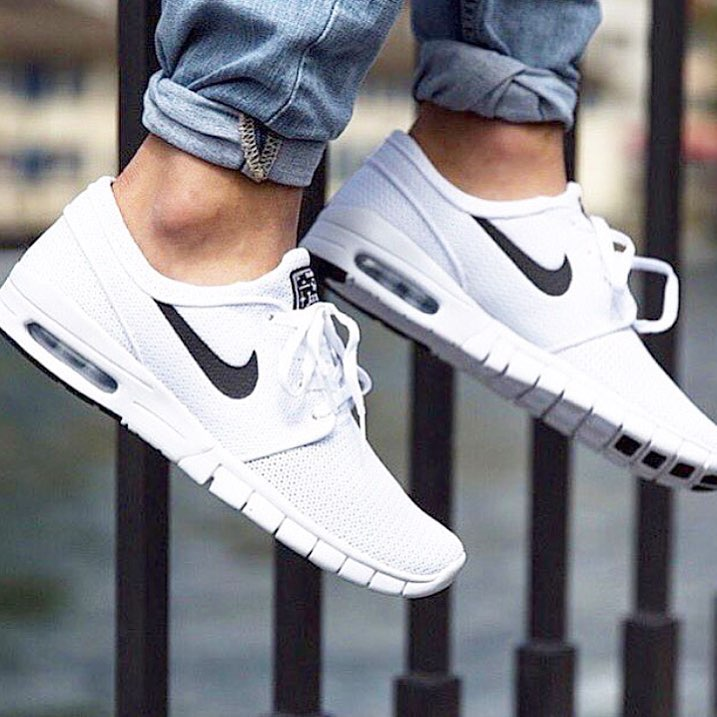sneaker: (1, 83, 489, 629), (282, 56, 717, 513)
